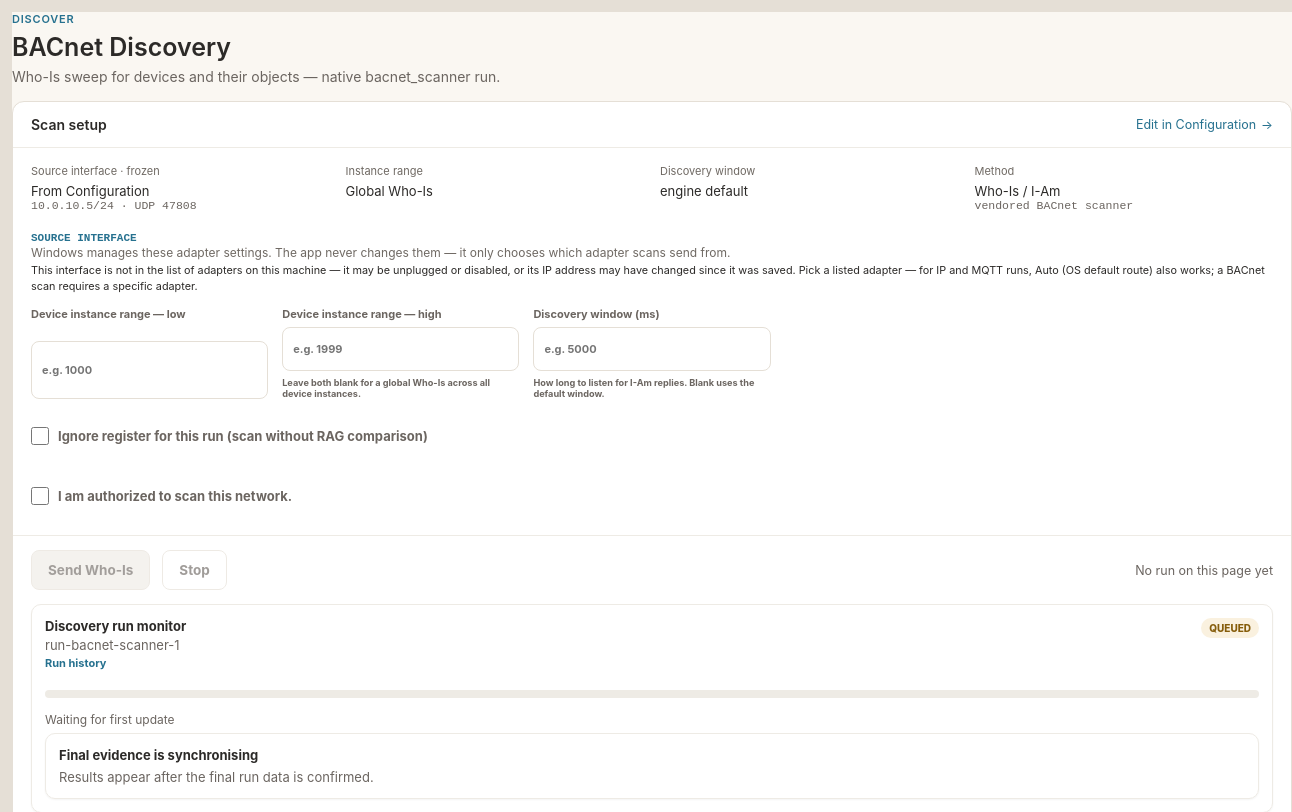
Test: BacnetScannerPage › holds Send Who-Is until scan authorization is confirmed where it is enforced
Expected: the button "Send Who-Is" is disabled, [31, 550, 150, 590]
Click the checkbox labelled "I am authorized to scan this network.": (40,496) [31, 487, 49, 505]
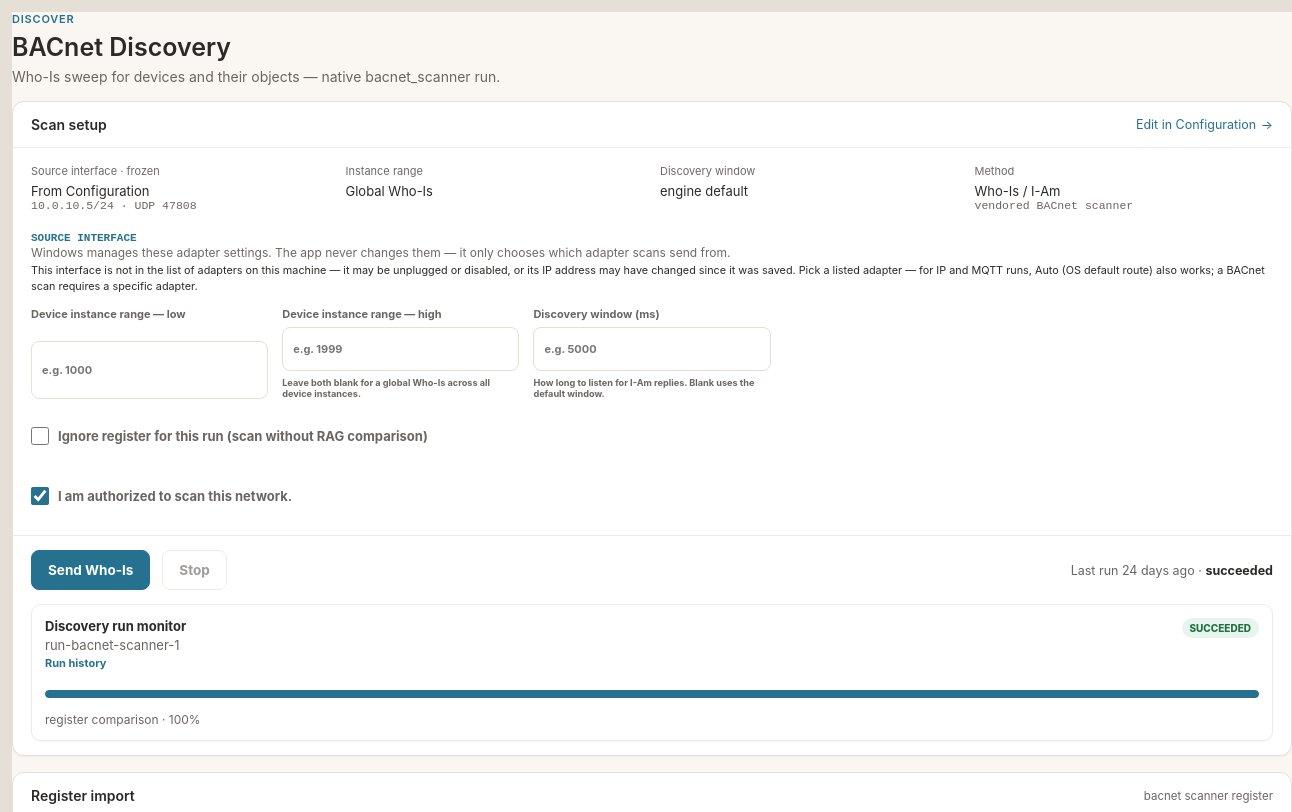
Result: the button "Send Who-Is" is enabled at [31, 550, 150, 590]
